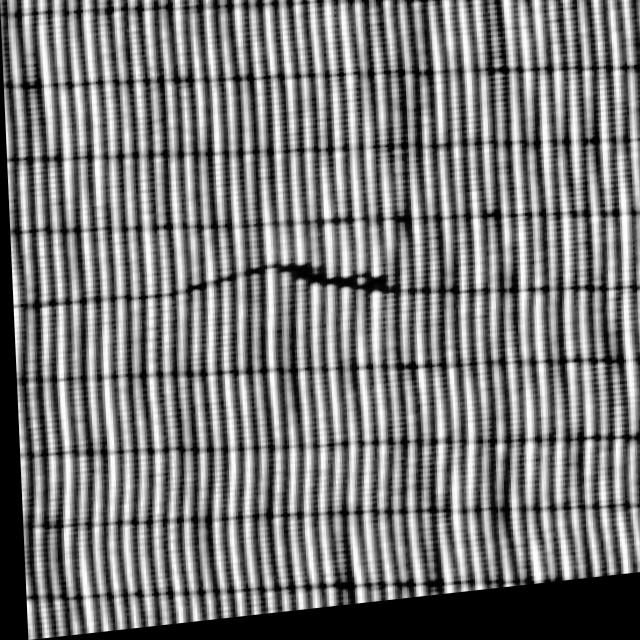Stitch: (128, 217, 449, 367)
